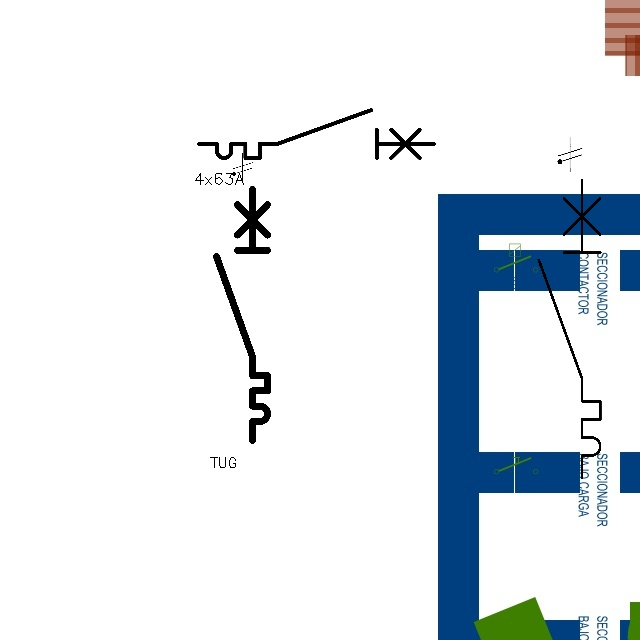interruptor_termomagnetico: (531, 172, 608, 486), (210, 182, 274, 446), (193, 104, 439, 164)
